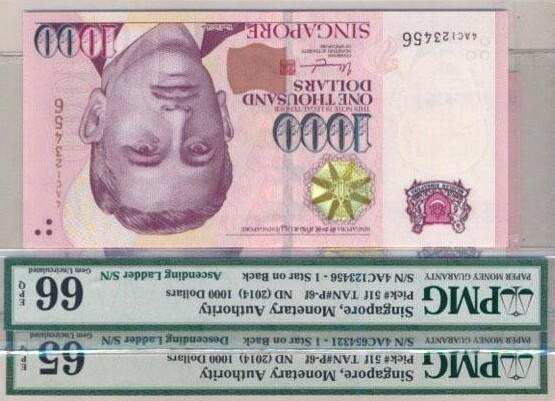1000SingaporeDollar: (22, 12, 507, 250)
